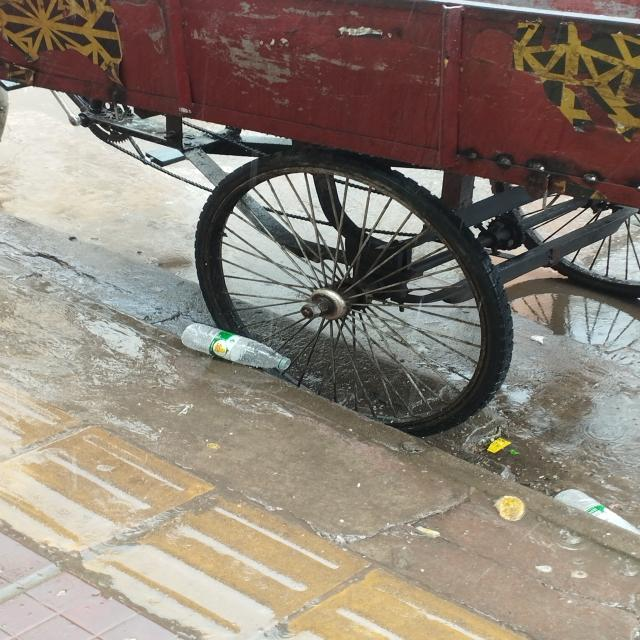plastic: (181, 323, 290, 372), (553, 484, 640, 534)
